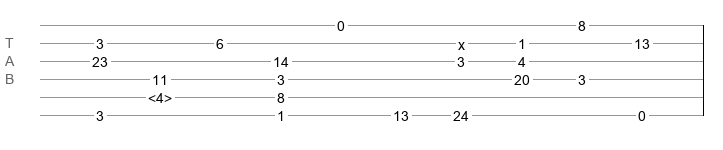0: (337, 18, 345, 28), (638, 108, 646, 118)
1: (277, 108, 285, 118), (518, 36, 526, 46)
11: (152, 72, 168, 82)
13: (393, 108, 409, 118), (634, 36, 650, 46)
14: (273, 54, 289, 64)
20: (514, 72, 530, 82)
23: (92, 54, 108, 64)
24: (453, 108, 469, 118)
3: (96, 36, 104, 46), (96, 108, 104, 118), (277, 72, 285, 82), (457, 54, 465, 64), (578, 72, 586, 82)
4: (518, 54, 526, 64)
6: (216, 36, 224, 46)
8: (277, 90, 285, 100), (578, 18, 586, 28)
harmonic: (148, 90, 172, 100)
x: (458, 37, 465, 45)
